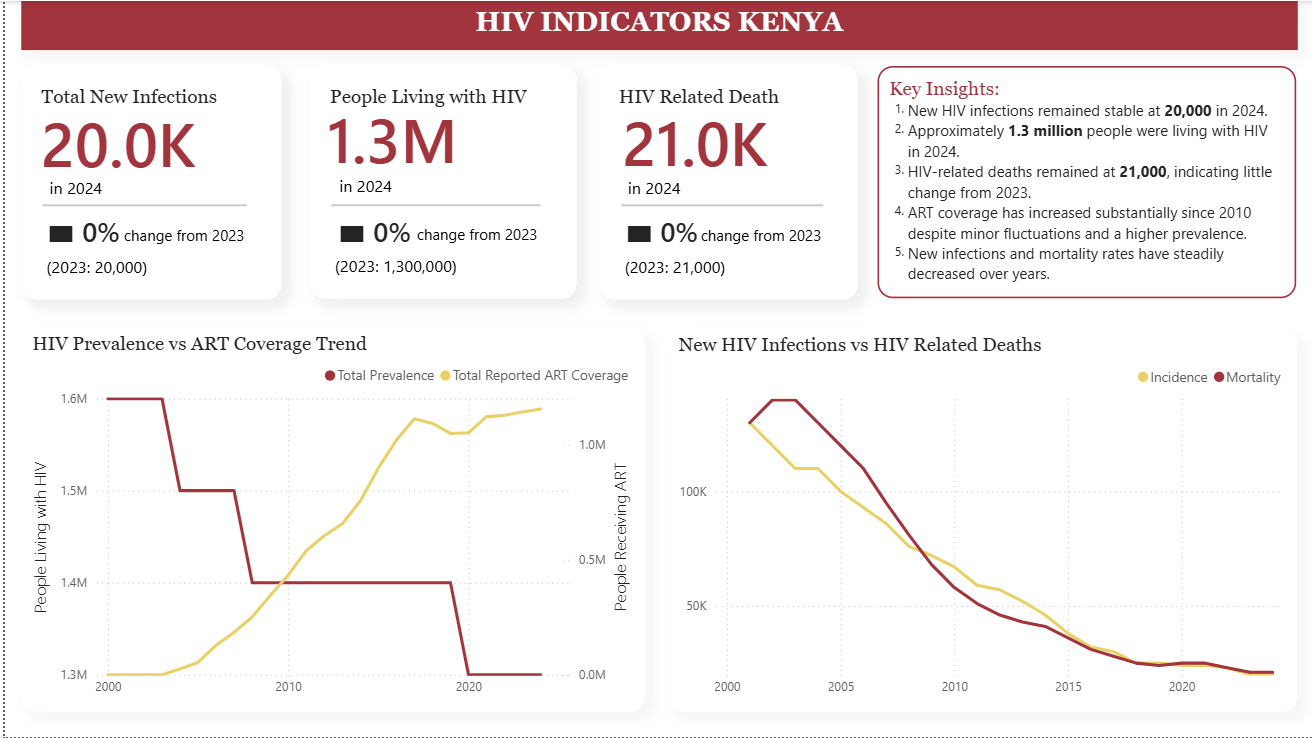

The dashboard page shown, as its layout file describes it:
{"tool":"powerbi","page":{"name":"Overview","canvas":[1280,720],"ordinal":0},"visuals":[{"type":"textbox","box":[15.9,0,1248.5,47.7],"z":0},{"type":"shape","title":"Background","box":[16.1,61.9,254.3,229.9],"z":0,"group":"g4"},{"type":"shape","title":"Background","box":[298.6,61.9,260.5,228.7],"z":0,"group":"g5"},{"type":"shape","title":"Background","box":[582.3,61.9,251.9,229.9],"z":0,"group":"g6"},{"type":"card","title":"yoy% card","fields":{"Values":["hiv_data_kenya.Trend Prevelance"]},"box":[314.2,203.4,95.7,44],"z":0,"group":"g1"},{"type":"card","title":"yoy% card","fields":{"Values":["hiv_data_kenya.Trend"]},"box":[31.4,204.2,93.4,44.2],"z":0,"group":"g2"},{"type":"card","title":"yoy% card","fields":{"Values":["hiv_data_kenya.Trend Mortality"]},"box":[597.5,204.2,92.5,44.2],"z":0,"group":"g3"},{"type":"textbox","title":"Key Insights","box":[853.8,63.1,409.6,227.4],"z":1000},{"type":"group","id":"g1","title":"below line","box":[314.2,203.4,217.8,74.8],"z":1000,"group":"g5"},{"type":"group","id":"g2","title":"below line","box":[27.4,204.2,216.7,75.9],"z":1000,"group":"g4"},{"type":"group","id":"g3","title":"below line","box":[593.5,204.2,214.6,75.9],"z":1000,"group":"g6"},{"type":"card","title":"compared to","fields":{"Values":["hiv_data_kenya.Comparison Label"]},"box":[392.8,212.2,139.2,36.6],"z":1000,"group":"g1"},{"type":"card","title":"compared to","fields":{"Values":["hiv_data_kenya.Comparison Label"]},"box":[108.1,213.1,135.9,36.8],"z":1000,"group":"g2"},{"type":"card","title":"compared to","fields":{"Values":["hiv_data_kenya.Comparison Label"]},"box":[673.5,213.1,134.6,36.8],"z":1000,"group":"g3"},{"type":"group","id":"g4","title":"New Infections","box":[16.1,61.9,254.3,229.9],"z":2000},{"type":"card","title":"Inf LY card","fields":{"Values":["hiv_data_kenya.RY Prevelance"]},"box":[310,90.5,139.3,84],"z":2000,"group":"g5"},{"type":"card","title":"Inf LY card","fields":{"Values":["hiv_data_kenya.RY Mortality"]},"box":[596.6,92.4,157,85.7],"z":2000,"group":"g6"},{"type":"card","title":"Inf LY card","fields":{"Values":["hiv_data_kenya.LatestY New Infections"]},"box":[20.7,94.6,180.3,83],"z":2000,"group":"g4"},{"type":"card","title":"py value card","fields":{"Values":["hiv_data_kenya.PY Prevelance Value"]},"box":[318.3,242.9,129.6,35.3],"z":2000,"group":"g1"},{"type":"card","title":"py value card","fields":{"Values":["hiv_data_kenya.Previous Year Value"]},"box":[27.4,244.6,126.5,35.5],"z":2000,"group":"g2"},{"type":"card","title":"py value card","fields":{"Values":["hiv_data_kenya.PY Mortality Value"]},"box":[593.5,244.6,125.3,35.5],"z":2000,"group":"g3"},{"type":"group","id":"g5","title":"Prevelance","box":[298.6,61.9,260.5,228.7],"z":3000},{"type":"card","title":"py value card","fields":{"Values":["hiv_data_kenya.Year Label"]},"box":[313.8,168.6,79.9,29.1],"z":3000,"group":"g5"},{"type":"card","title":"py value card","fields":{"Values":["hiv_data_kenya.Year Label"]},"box":[30.9,169.2,78.1,29.3],"z":3000,"group":"g4"},{"type":"card","title":"py value card","fields":{"Values":["hiv_data_kenya.Year Label"]},"box":[597,169.2,77.3,29.3],"z":3000,"group":"g6"},{"type":"group","id":"g6","title":"Mortality","box":[582.3,61.9,251.9,229.9],"z":4000},{"type":"textbox","title":"New Inf KPI title","box":[313,77.4,220.4,30.9],"z":4000,"group":"g5"},{"type":"textbox","title":"New Inf KPI title","box":[30.2,77.5,215.3,31.1],"z":4000,"group":"g4"},{"type":"textbox","title":"New Inf KPI title","box":[596.3,77.5,213.2,31.1],"z":4000,"group":"g6"},{"type":"shape","box":[319.9,191.2,204.7,15.6],"z":5000,"group":"g5"},{"type":"shape","box":[36.9,191.9,199.9,15.7],"z":5000,"group":"g4"},{"type":"shape","box":[602.9,191.9,198,15.7],"z":5000,"group":"g6"},{"type":"lineChart","title":"New HIV Infections vs HIV Related Deaths","fields":{"Category":["Date.Year"],"Y":["Sum(hiv_data_kenya.Numeric)"],"Series":["Indicator Group.Group"]},"box":[647.6,320.8,615.8,374.9],"z":5000},{"type":"lineChart","title":"HIV Prevalence vs ART Coverage Trend","fields":{"Category":["Date.Year"],"Y":["hiv_data_kenya.Total Prevelance"],"Y2":["hiv_data_kenya.Total Reported ART Coverage"]},"box":[16.1,319.4,610.1,376.3],"z":6000}]}

Visuals, with their boxes in screenshot pixels (x1, y1, x2, y2), scaled from the page's 1280x720 canvas onto the 1312x738 screenshot:
textbox: (16,0,1296,49)
"Background" shape: (17,63,277,299)
"Background" shape: (306,63,573,298)
"Background" shape: (597,63,855,299)
"yoy% card" card: (322,208,420,254)
"yoy% card" card: (32,209,128,255)
"yoy% card" card: (612,209,707,255)
"Key Insights" textbox: (875,65,1295,298)
"below line" group: (322,208,545,285)
"below line" group: (28,209,250,287)
"below line" group: (608,209,828,287)
"compared to" card: (403,218,545,255)
"compared to" card: (111,218,250,256)
"compared to" card: (690,218,828,256)
"New Infections" group: (17,63,277,299)
"Inf LY card" card: (318,93,461,179)
"Inf LY card" card: (612,95,772,183)
"Inf LY card" card: (21,97,206,182)
"py value card" card: (326,249,459,285)
"py value card" card: (28,251,158,287)
"py value card" card: (608,251,737,287)
"Prevelance" group: (306,63,573,298)
"py value card" card: (322,173,404,203)
"py value card" card: (32,173,112,203)
"py value card" card: (612,173,691,203)
"Mortality" group: (597,63,855,299)
"New Inf KPI title" textbox: (321,79,547,111)
"New Inf KPI title" textbox: (31,79,252,111)
"New Inf KPI title" textbox: (611,79,830,111)
shape: (328,196,538,212)
shape: (38,197,243,213)
shape: (618,197,821,213)
"New HIV Infections vs HIV Related Deaths" lineChart: (664,329,1295,713)
"HIV Prevalence vs ART Coverage Trend" lineChart: (17,327,642,713)
